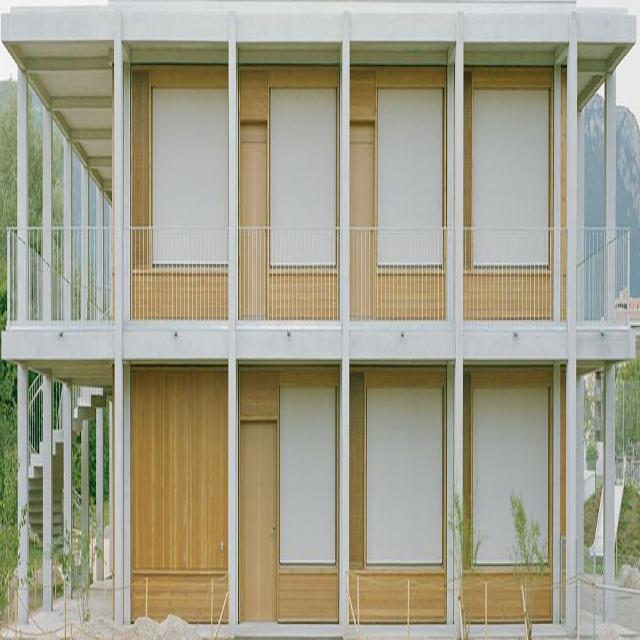Railing: (10, 227, 116, 325), (464, 229, 568, 325), (130, 222, 229, 322), (238, 225, 340, 320), (350, 227, 449, 320), (578, 227, 632, 325)
door: (237, 414, 277, 615)
wall: (1, 4, 634, 617)
windows: (362, 379, 441, 566), (469, 371, 546, 560), (468, 74, 548, 223), (148, 80, 228, 222), (276, 378, 336, 566), (267, 78, 335, 228), (373, 75, 441, 224)
